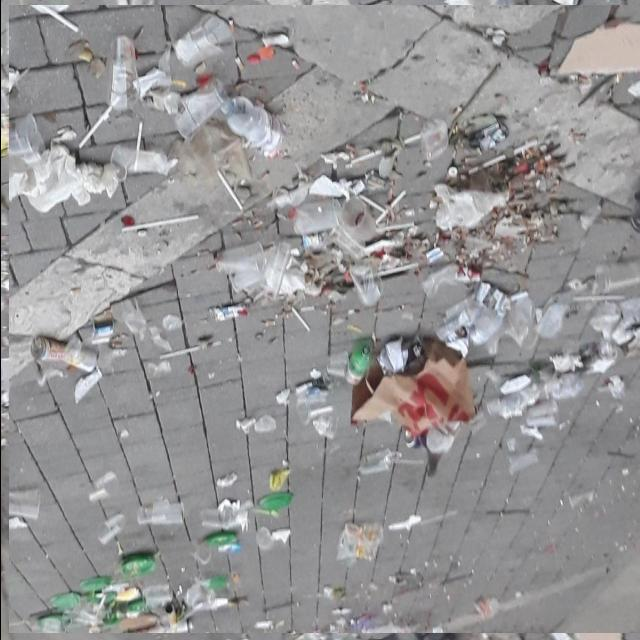garbage: (9, 3, 640, 636)
